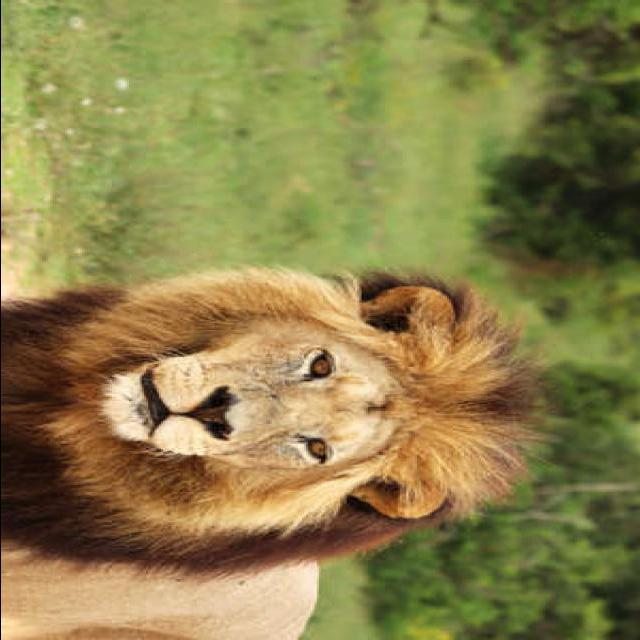lions: (0, 117, 640, 640)
